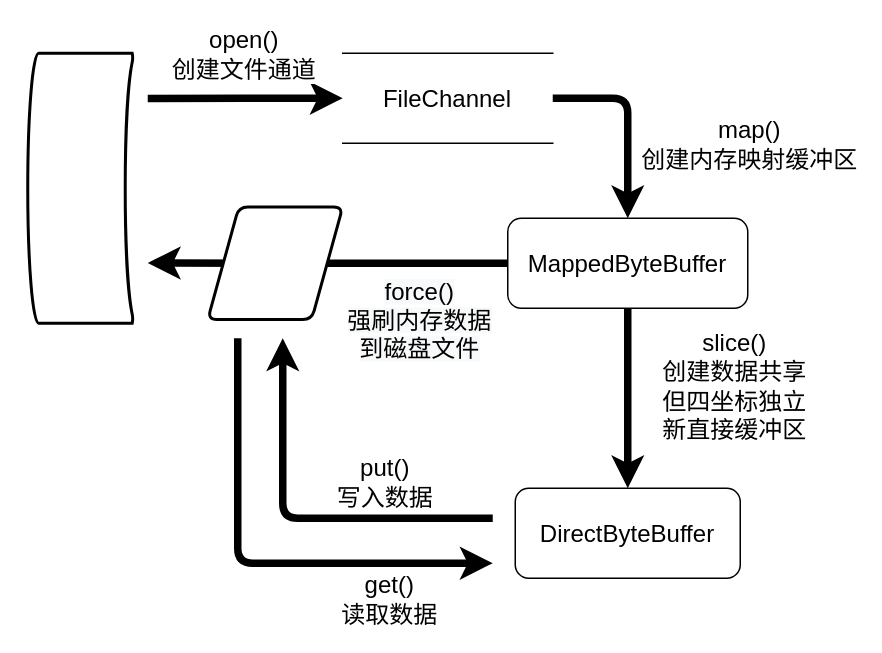
Some shapes in this 882 by 653 pixel diagram are drawn without their labels. Here are the shapes that lost their labels. From the top down, the centre of each, then its label:
point 80,187: 磁盘文件
point 275,262: 物理内存 映射文件
